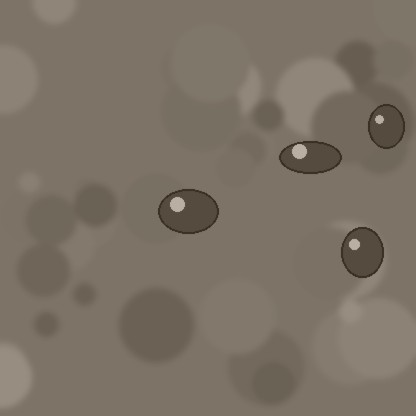gota: (158, 191, 218, 237), (341, 229, 383, 281), (279, 142, 341, 176), (368, 106, 404, 152)
